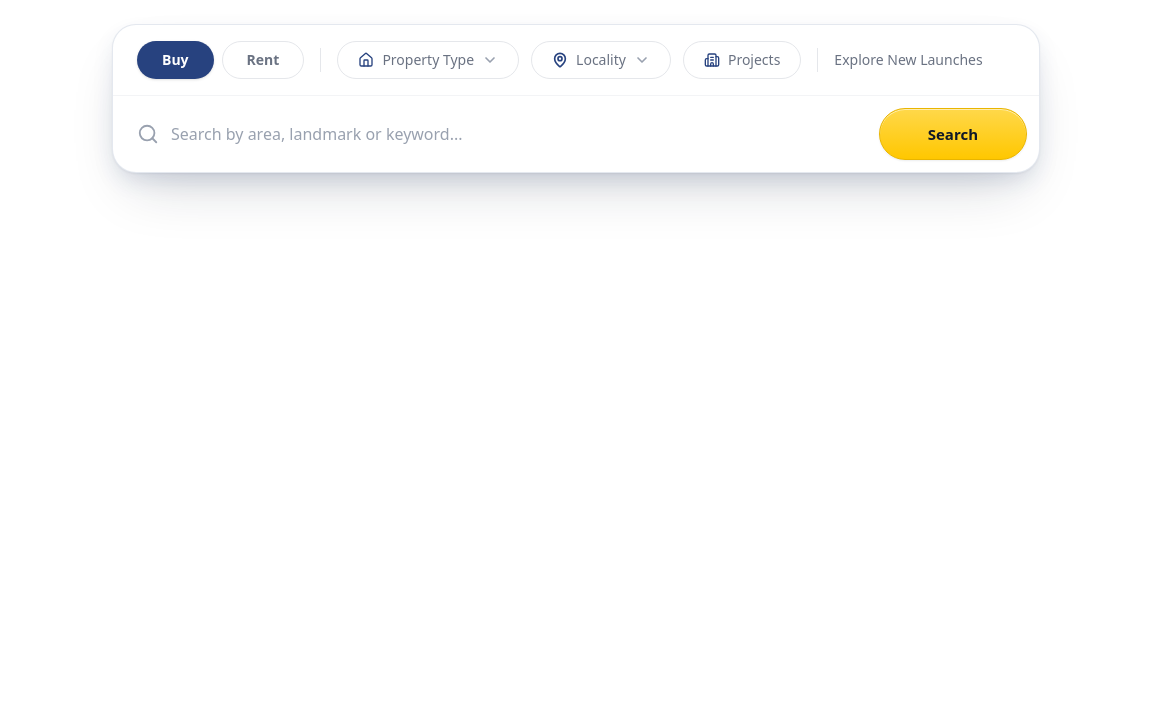
HomeSearch responsive search bar › searches all localities in the selected city and supports escape
Step 1. Click the button "Locality" → point(601, 60), box [531,41,671,79]
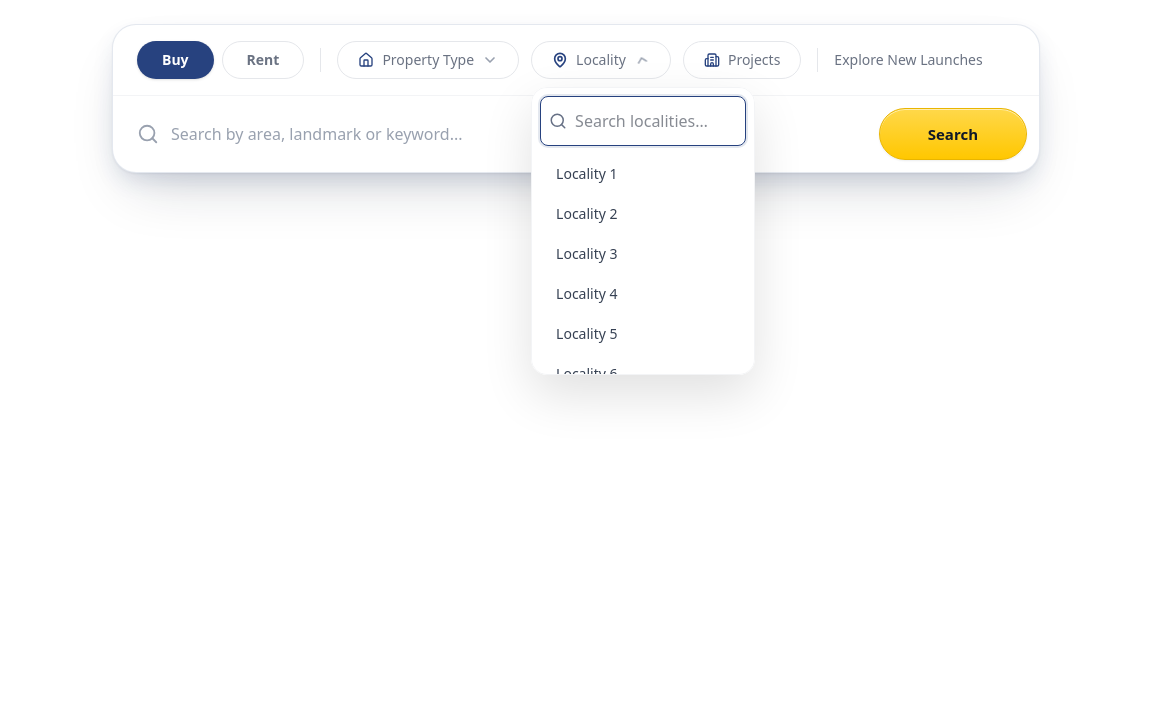
Step 2. Type "TOWN" into the search field labelled "Search localities" → point(656, 121), box [575,105,737,137]
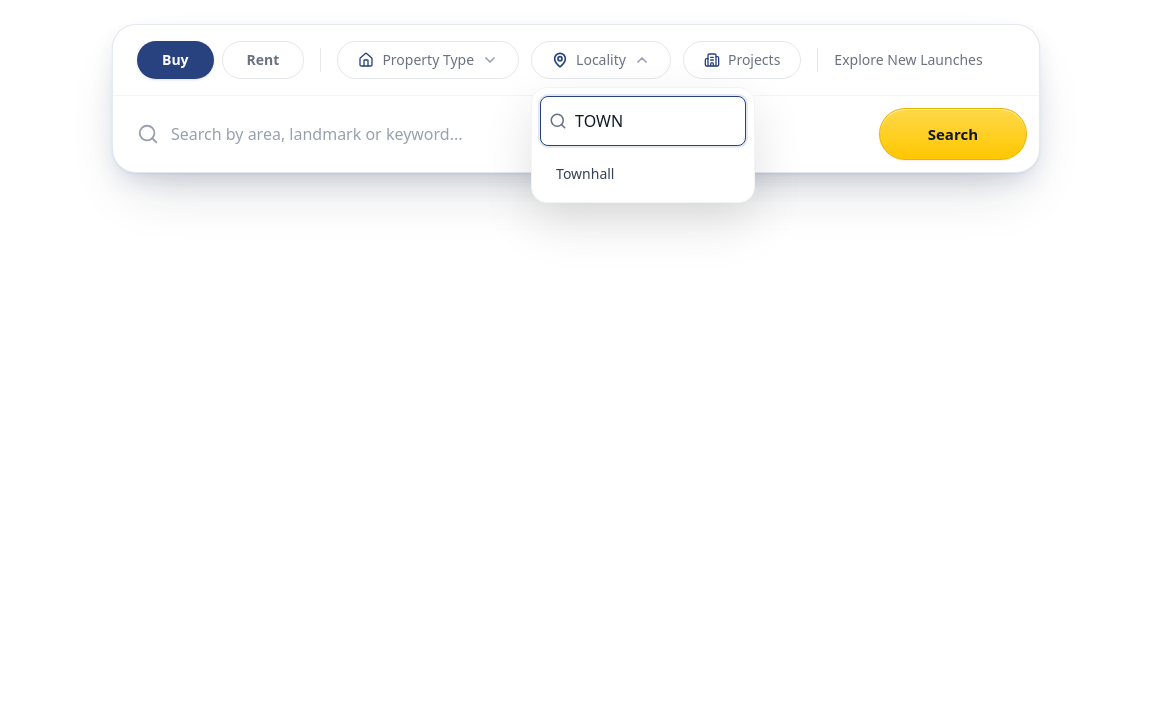
Step 3. Click the option "Townhall" → point(643, 174), box [540,154,746,194]
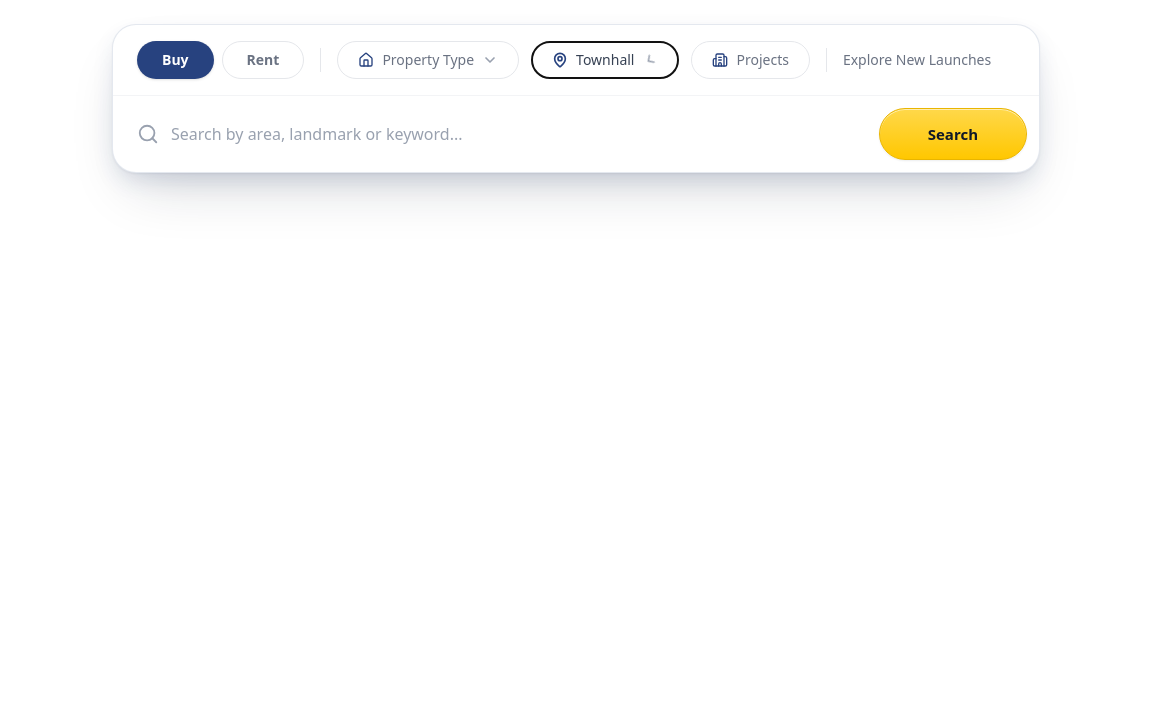
expect the dialog is gone: met
Step 4. Click the button "Townhall" → point(605, 60), box [531,41,680,79]
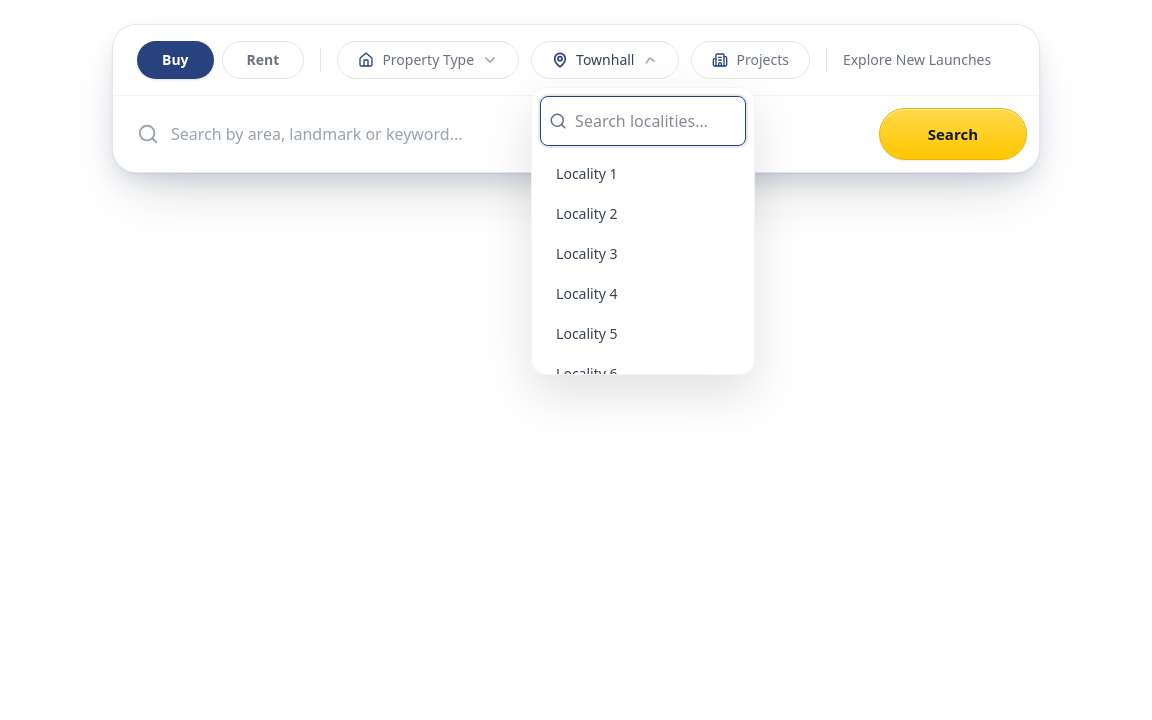
Step 5. Type "nonexistent" into the search field → point(656, 121), box [575,105,737,137]
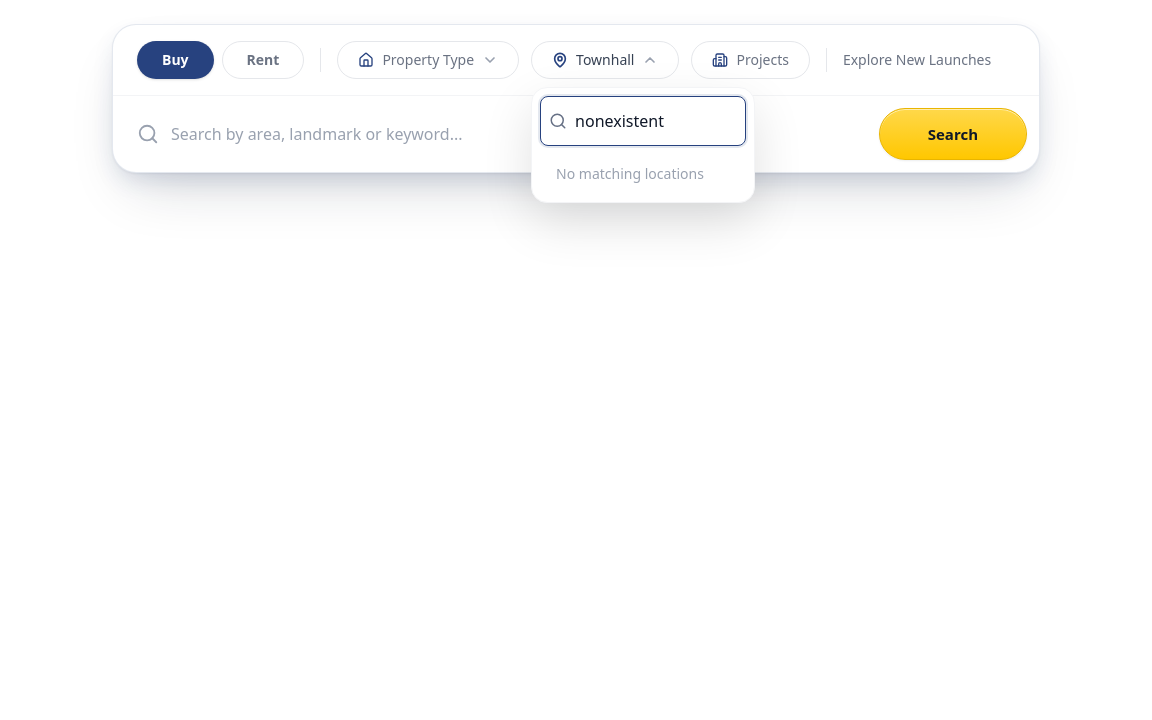
expect the message reads "No matching locations": met, box [556,164,704,183]
Step 6. Press Escape
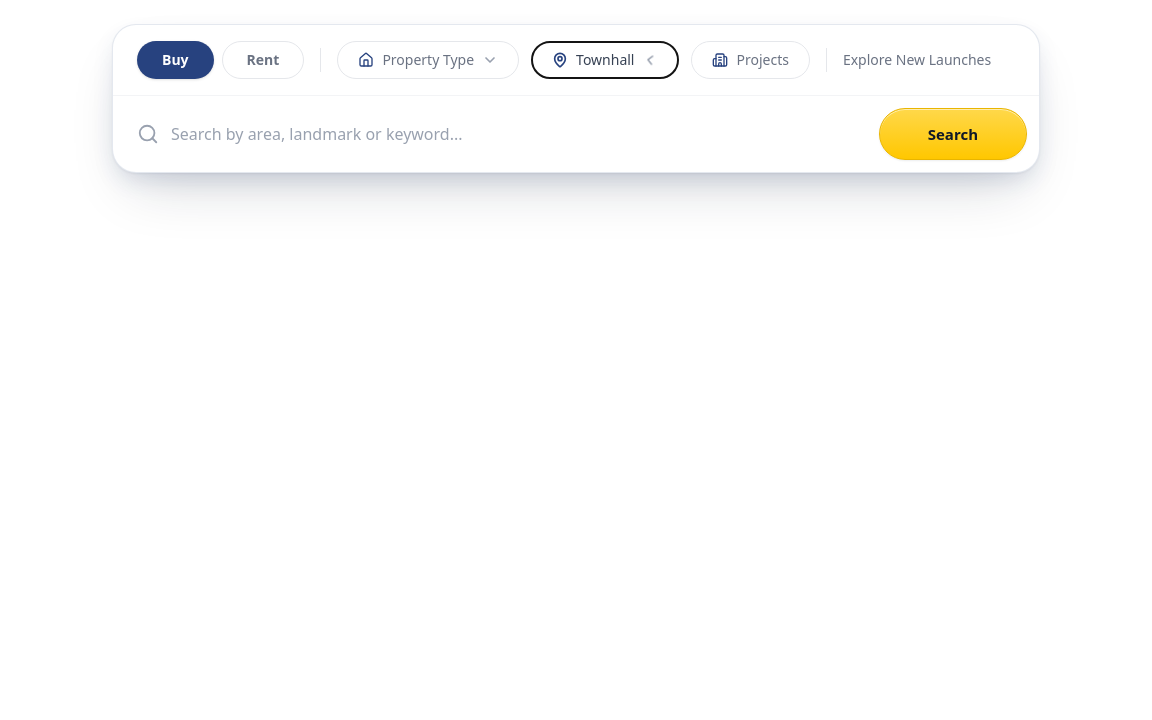
expect the dialog is gone: met
